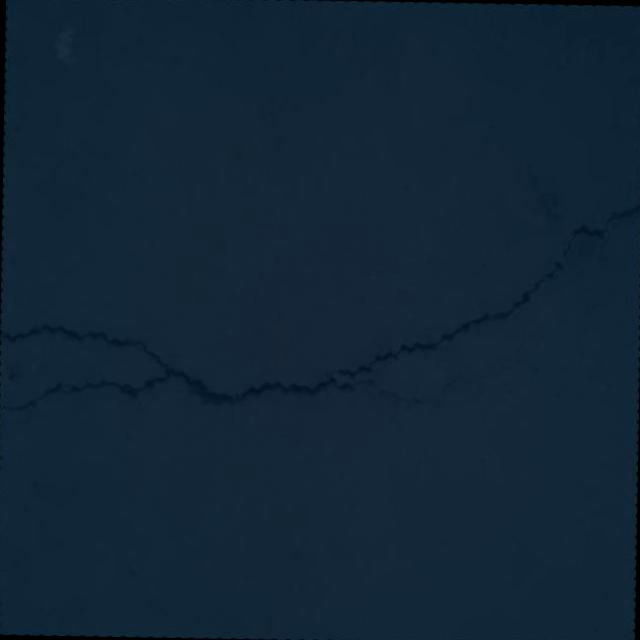crack: (0, 191, 640, 424)
